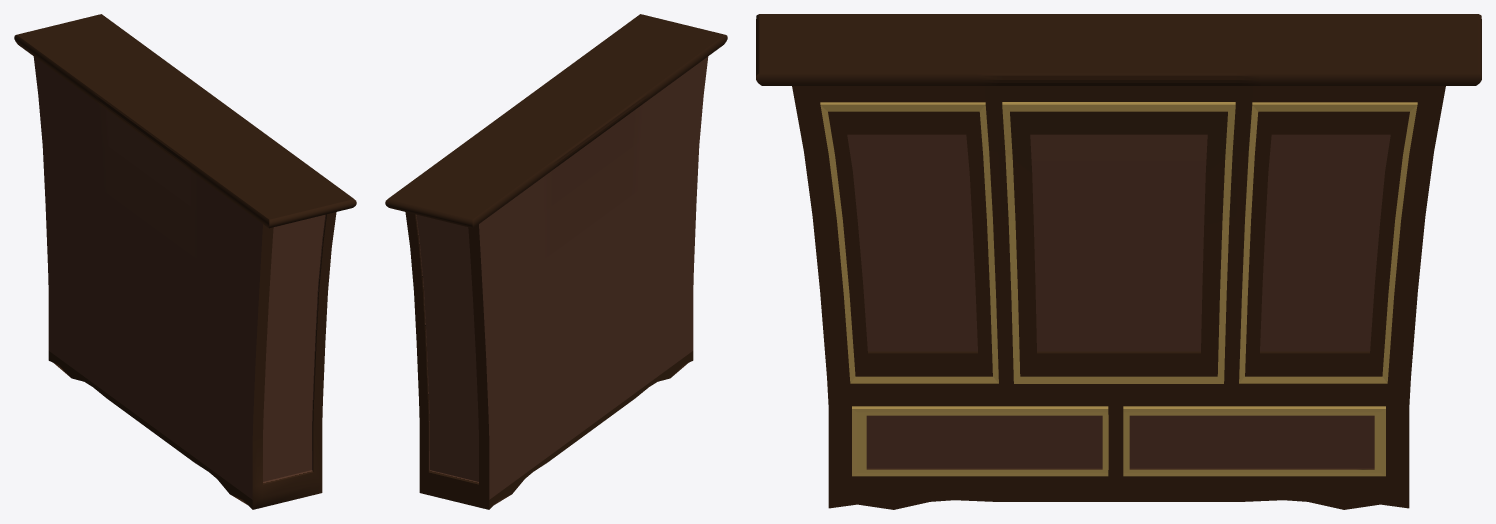
The model's file is LoungeCabinetUV.fbx.
3 renders of one model, left to right at view 1: azimuth 30°, elevation 25°; view 2: azimuth 150°, elevation 25°; view 3: azimuth 270°, elevation 25°, orthographic. The views are drawn at different scales.
Parts seen in each view (by area): view 1: polySurface1; view 2: polySurface1; view 3: polySurface1.
Part boxes in pixels (x1=…): polySurface1: x1=14, y1=14, x2=356, y2=509; polySurface1: x1=385, y1=14, x2=727, y2=509; polySurface1: x1=756, y1=14, x2=1481, y2=509.
Size of the model in its own units: 74.42 by 253 by 376.
